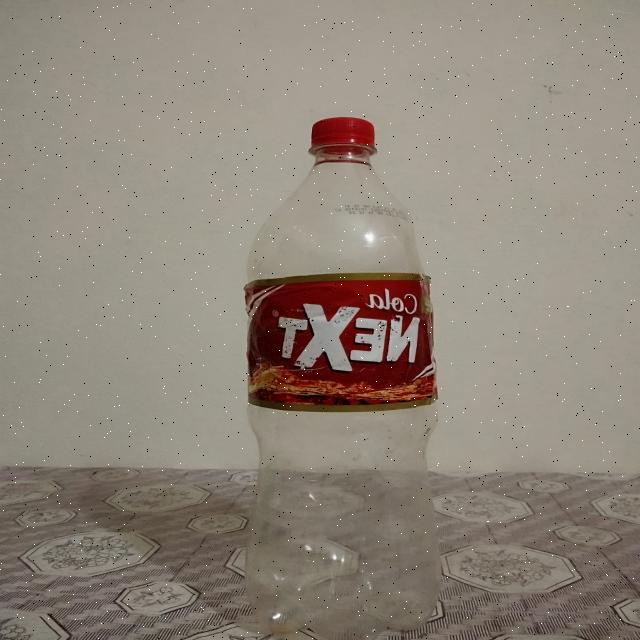bottle: (242, 120, 438, 640)
cap: (310, 119, 374, 151)
label: (243, 275, 437, 415)
